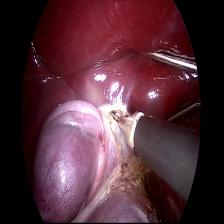Grasper: (143, 39, 205, 121)
Hook: (107, 98, 144, 156)
